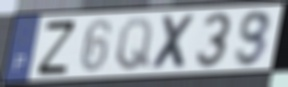3: (194, 11, 235, 70)
6: (79, 17, 114, 74)
9: (233, 8, 275, 68)
Q: (114, 16, 155, 73)
X: (149, 13, 199, 72)
Z: (35, 18, 78, 77)
